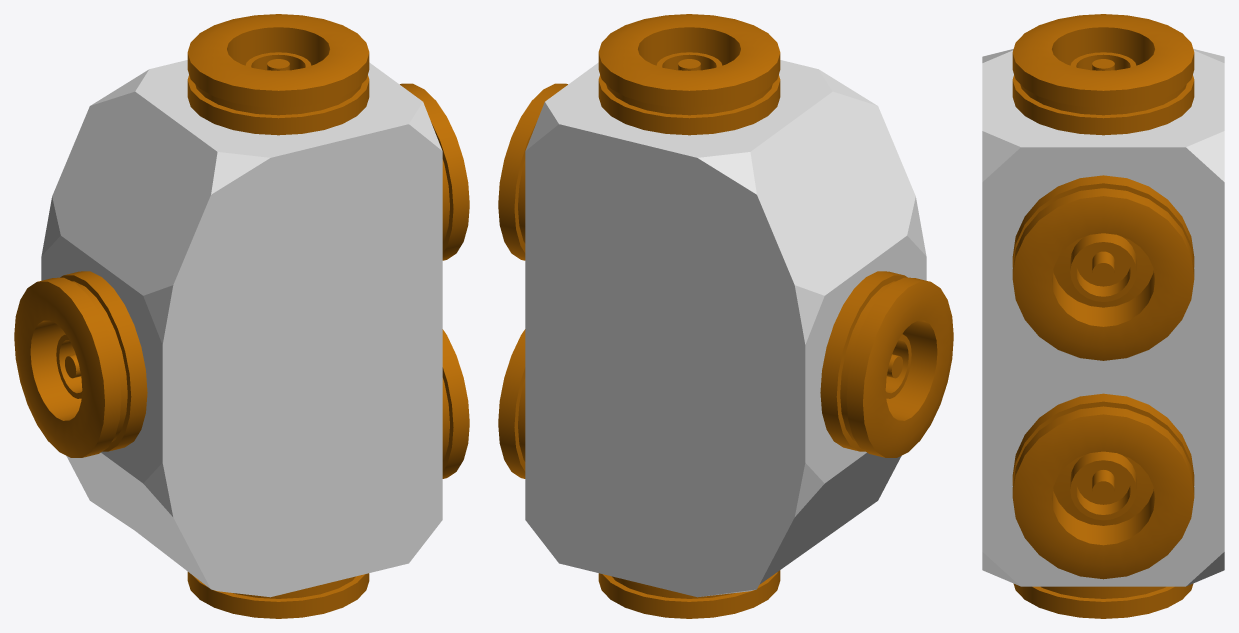
Rendered from HighVoltageJunction.gltf.
3 renders of one model, left to right at view 1: azimuth 30°, elevation 25°; view 2: azimuth 150°, elevation 25°; view 3: azimuth 270°, elevation 25°, orthographic.
Visible parts, largest first — view 1: base; view 2: base; view 3: base.
Boxes of the visible parts, box(x1,y1,x2,y2) form: base: box(14, 14, 469, 618); base: box(498, 14, 953, 618); base: box(982, 14, 1224, 618).
Size of the model in its own units: 0.3334 by 0.4584 by 0.1875.
